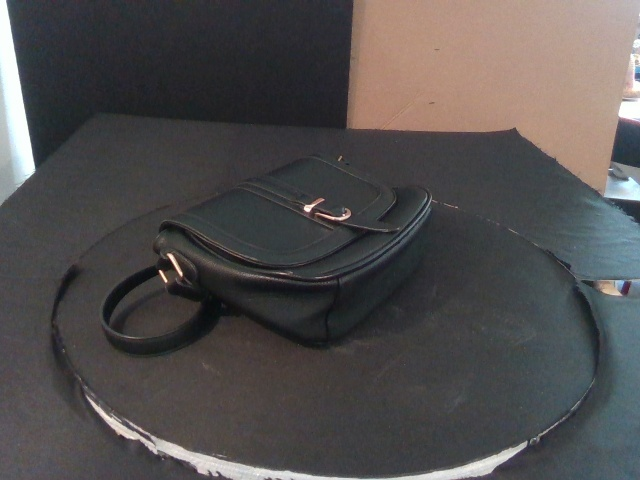bag: (156, 151, 433, 349)
